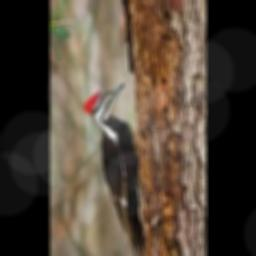Woodpecker: (84, 83, 144, 256)
